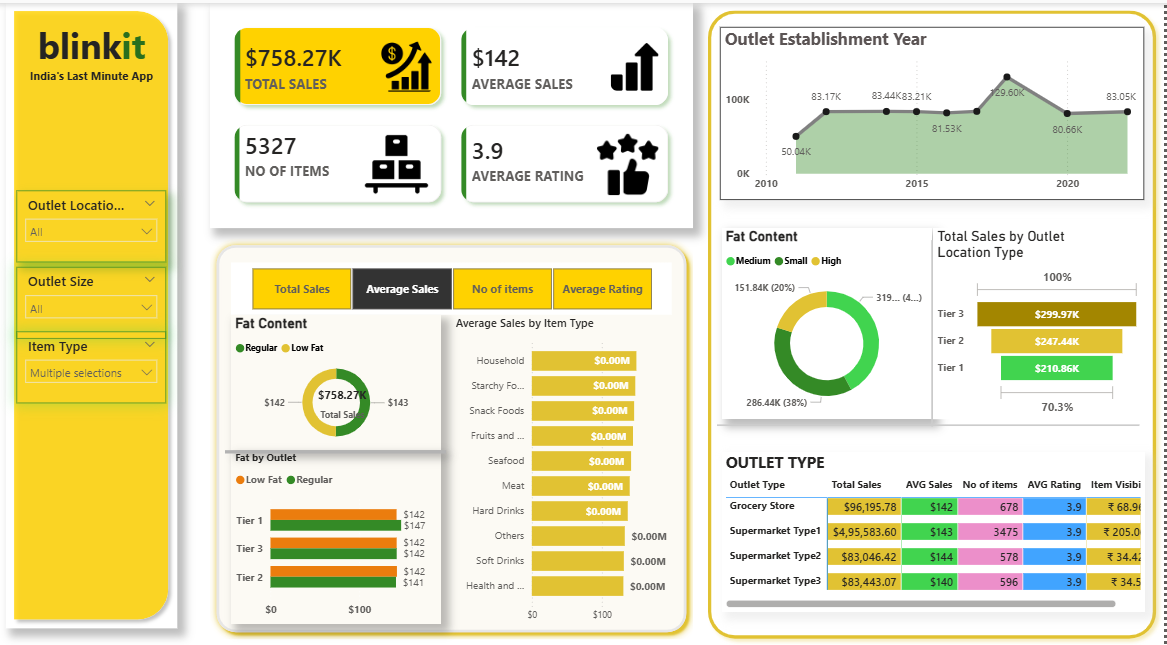

The dashboard page shown, as its layout file describes it:
{"tool":"powerbi","page":{"name":"Page 1","canvas":[1400,800],"ordinal":0},"visuals":[{"type":"shape","box":[10,0,205,750],"z":0},{"type":"textbox","box":[23.4,16.2,179.9,102.6],"z":1000},{"type":"cardVisual","fields":{"Data":["Blinkit Grocery Data.Total Sales","Blinkit Grocery Data.Average Sales","Blinkit Grocery Data.No of items","Blinkit Grocery Data.Average Rating"]},"box":[255.5,0,579.3,269.9],"z":2000},{"type":"shape","box":[255.5,282.5,579.3,480.4],"z":3000},{"type":"donutChart","title":"Fat Content","fields":{"Y":["Blinkit Grocery Data.Average Sales"],"Category":["Blinkit Grocery Data.Item Fat Content"]},"box":[280.7,374.2,251.9,161.9],"z":4000},{"type":"slicer","fields":{"Values":["Metrics.Metrics"]},"box":[280.7,311.3,528.9,63],"z":5000},{"type":"card","fields":{"Values":["Blinkit Grocery Data.Total Sales"]},"box":[379.6,449.8,68.4,59.4],"z":6000},{"type":"clusteredBarChart","title":"Fat by Outlet ","fields":{"Y":["Blinkit Grocery Data.Average Sales"],"Category":["Blinkit Grocery Data.Outlet Location Type"],"Series":["Blinkit Grocery Data.Item Fat Content"]},"box":[280.7,536.1,251.9,208.7],"z":7000},{"type":"clusteredBarChart","fields":{"Y":["Blinkit Grocery Data.Average Sales"],"Category":["Blinkit Grocery Data.Item Type"]},"box":[545.1,374.2,277.1,376],"z":8000},{"type":"shape","box":[273.1,405.8,265.4,263.5],"z":9000},{"type":"shape","box":[844.4,0,555.6,771.4],"z":10000},{"type":"lineChart","title":"Outlet Establishment Year","fields":{"Y":["Blinkit Grocery Data.Total Sales"],"Category":["Blinkit Grocery Data.Outlet Establishment Year"]},"box":[866.7,28.1,508.8,207],"z":11000},{"type":"donutChart","title":"Fat Content","fields":{"Y":["Blinkit Grocery Data.Total Sales"],"Category":["Blinkit Grocery Data.Outlet Size"]},"box":[869,270.7,251.7,229.3],"z":12000},{"type":"funnel","fields":{"Y":["Blinkit Grocery Data.Total Sales"],"Category":["Blinkit Grocery Data.Outlet Location Type"]},"box":[1122.4,270.7,253.4,229.3],"z":13000},{"type":"shape","box":[863.8,43.1,510.3,382.8],"z":14000},{"type":"shape","box":[863.8,360.3,506.9,293.1],"z":15000},{"type":"shape","box":[972.4,284.5,300,224.1],"z":16000},{"type":"pivotTable","title":"OUTLET TYPE","fields":{"Rows":["Blinkit Grocery Data.Outlet Type"],"Values":["Blinkit Grocery Data.Total Sales","Blinkit Grocery Data.Average Sales","Blinkit Grocery Data.No of items","Blinkit Grocery Data.Average Rating","Sum(Blinkit Grocery Data.Item Visibility)"]},"box":[868.3,538.1,507.9,192.1],"z":17000},{"type":"slicer","fields":{"Values":["Blinkit Grocery Data.Outlet Location Type"]},"box":[23.8,225.4,179.4,85.7],"z":18000},{"type":"slicer","fields":{"Values":["Blinkit Grocery Data.Outlet Size"]},"box":[23.8,317.5,179.4,85.7],"z":19000},{"type":"slicer","fields":{"Values":["Blinkit Grocery Data.Item Type"]},"box":[23.8,393.7,179.4,85.7],"z":20000}]}

Visuals, with their boxes on the page's 1400x800 design canvas (x1, y1, x2, y2). These are canvas units, not pixel positions in the 1167x645 screenshot, which may show the page scaled, cropped or inside an application window:
shape: {"x1": 10, "y1": 0, "x2": 215, "y2": 750}
textbox: {"x1": 23, "y1": 16, "x2": 203, "y2": 119}
cardVisual - Blinkit Grocery Data.Total Sales x Blinkit Grocery Data.Average Sales: {"x1": 256, "y1": 0, "x2": 835, "y2": 270}
shape: {"x1": 256, "y1": 282, "x2": 835, "y2": 763}
"Fat Content" donutChart: {"x1": 281, "y1": 374, "x2": 533, "y2": 536}
slicer - Metrics.Metrics: {"x1": 281, "y1": 311, "x2": 810, "y2": 374}
card - Blinkit Grocery Data.Total Sales: {"x1": 380, "y1": 450, "x2": 448, "y2": 509}
"Fat by Outlet " clusteredBarChart: {"x1": 281, "y1": 536, "x2": 533, "y2": 745}
clusteredBarChart - Blinkit Grocery Data.Average Sales x Blinkit Grocery Data.Item Type: {"x1": 545, "y1": 374, "x2": 822, "y2": 750}
shape: {"x1": 273, "y1": 406, "x2": 538, "y2": 669}
shape: {"x1": 844, "y1": 0, "x2": 1400, "y2": 771}
"Outlet Establishment Year" lineChart: {"x1": 867, "y1": 28, "x2": 1376, "y2": 235}
"Fat Content" donutChart: {"x1": 869, "y1": 271, "x2": 1121, "y2": 500}
funnel - Blinkit Grocery Data.Total Sales x Blinkit Grocery Data.Outlet Location Type: {"x1": 1122, "y1": 271, "x2": 1376, "y2": 500}
shape: {"x1": 864, "y1": 43, "x2": 1374, "y2": 426}
shape: {"x1": 864, "y1": 360, "x2": 1371, "y2": 653}
shape: {"x1": 972, "y1": 284, "x2": 1272, "y2": 509}
"OUTLET TYPE" pivotTable: {"x1": 868, "y1": 538, "x2": 1376, "y2": 730}
slicer - Blinkit Grocery Data.Outlet Location Type: {"x1": 24, "y1": 225, "x2": 203, "y2": 311}
slicer - Blinkit Grocery Data.Outlet Size: {"x1": 24, "y1": 318, "x2": 203, "y2": 403}
slicer - Blinkit Grocery Data.Item Type: {"x1": 24, "y1": 394, "x2": 203, "y2": 479}
